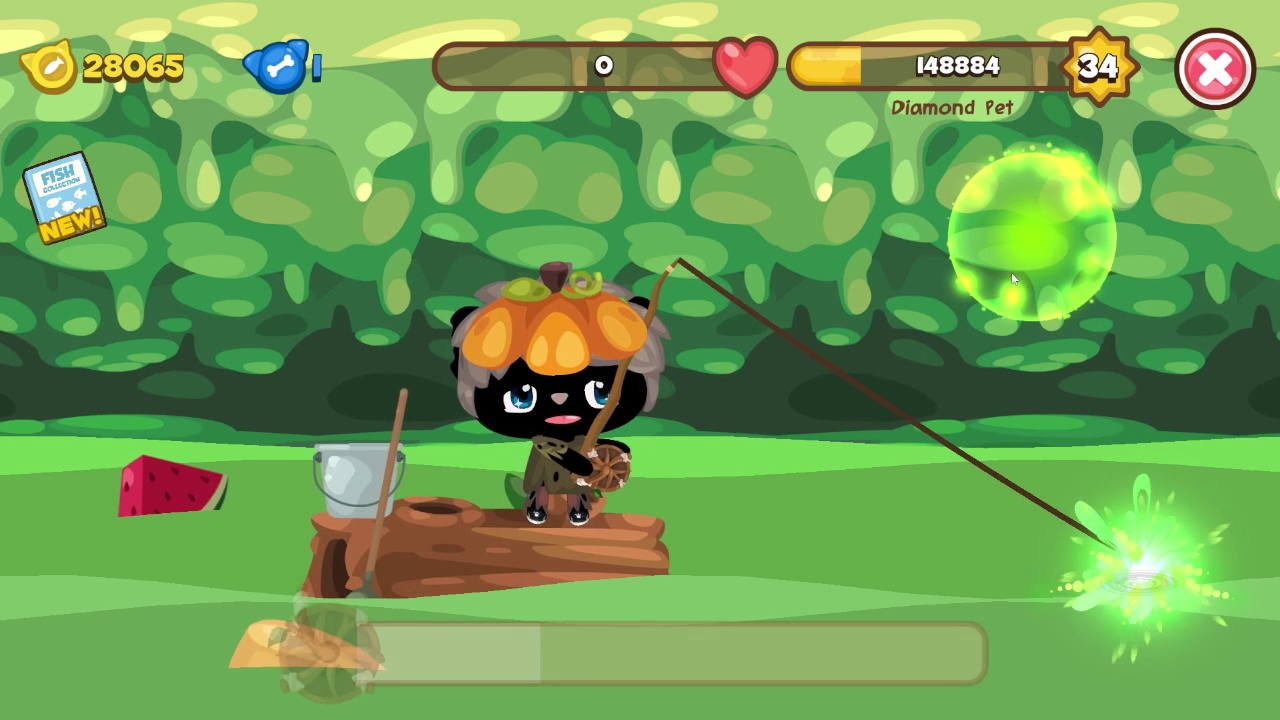point: (947, 151, 1119, 323)
